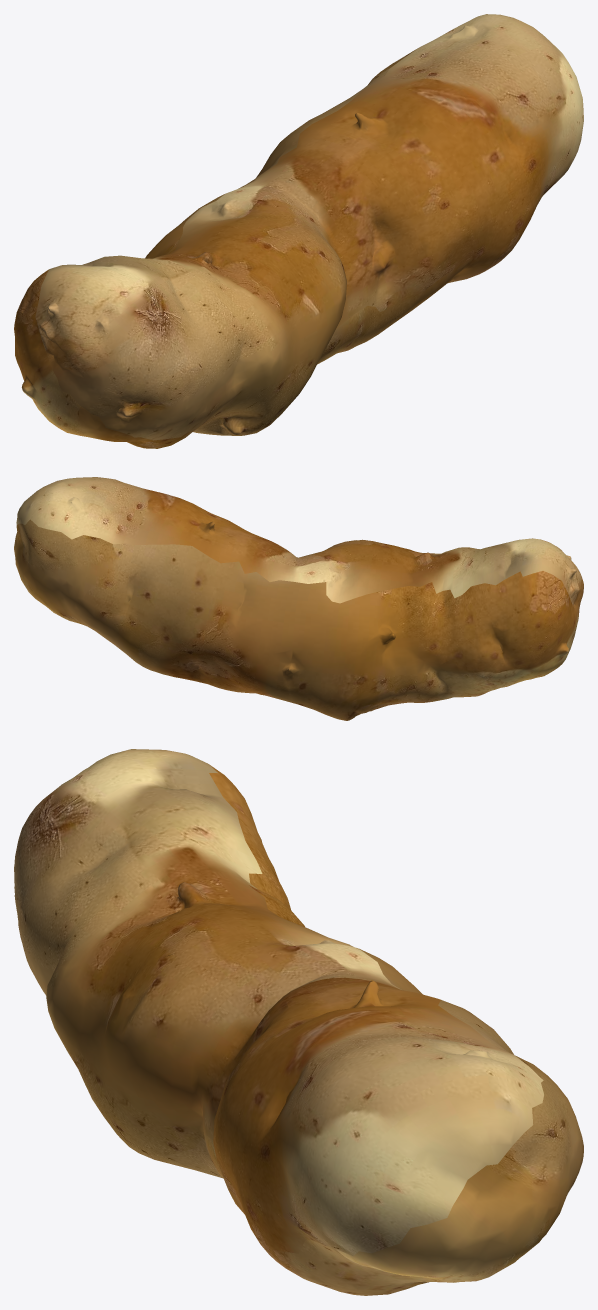
3 views of the same model, one above another, from view 1: azimuth 30°, elevation 25°; view 2: azimuth 150°, elevation 25°; view 3: azimuth 270°, elevation 25° (orthographic). The views are drawn at different scales.
Size of the model in its own units: 1 by 0.3885 by 0.5539.
